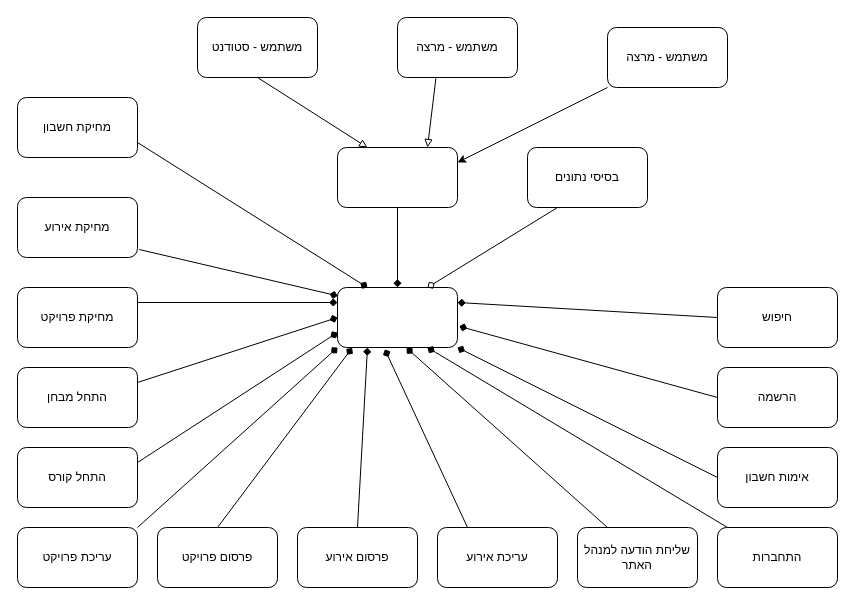
The diagram is 855 pixels wide and 605 high, and some of its shapes have lost their labels. Here are the shapes that lost their labels. From the top down, the centre of each, then its label:
(397,177): גולש
(397,317): מערכת האתר
